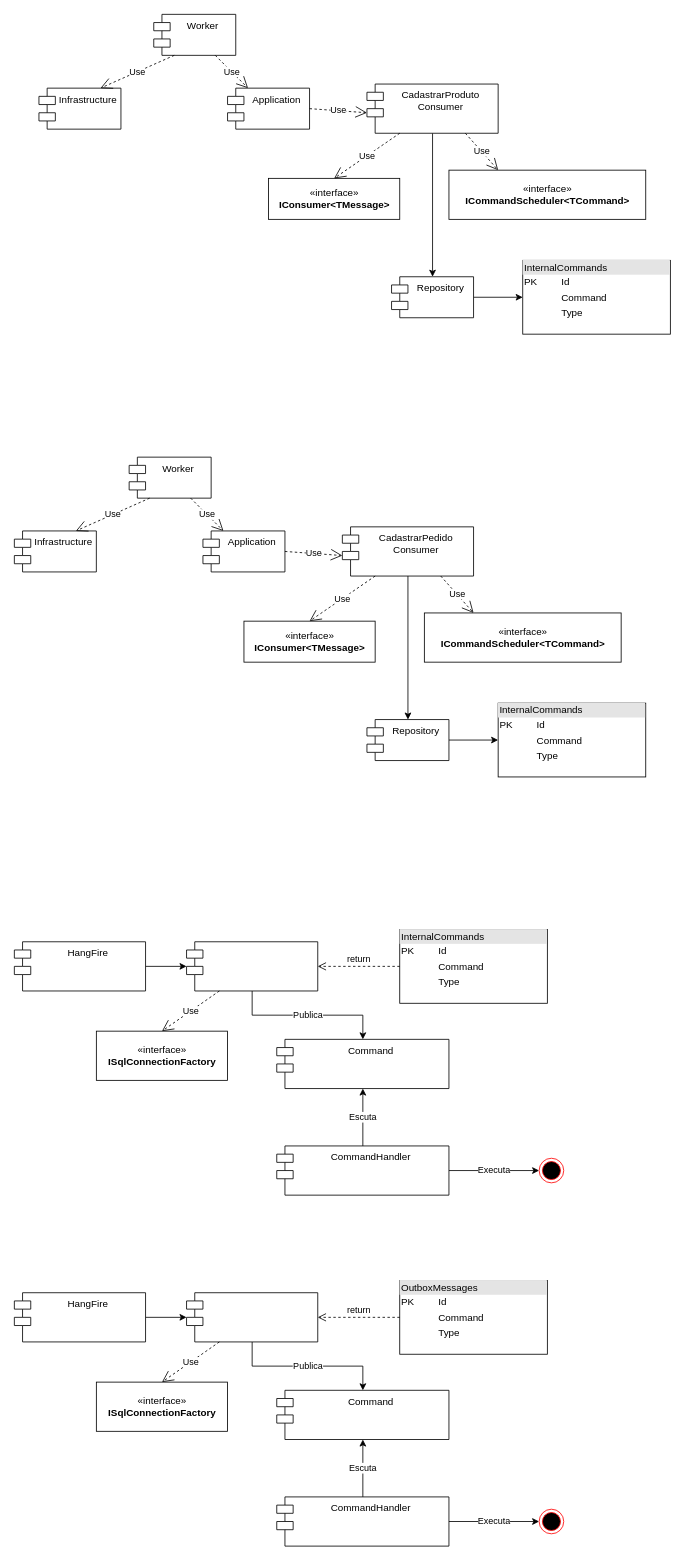
The diagram is 685 pixels wide and 1560 high, and some of its shapes have lost their labels. Each missing label, with the centre of its shape:
"ProccessInternal Commands" belongs at point 252,966.
"ProccessOutbox Messages" belongs at point 252,1317.
